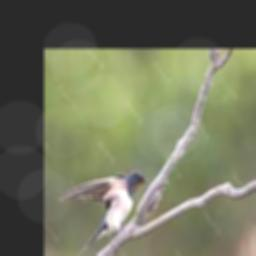Swallow: (59, 170, 149, 254)
